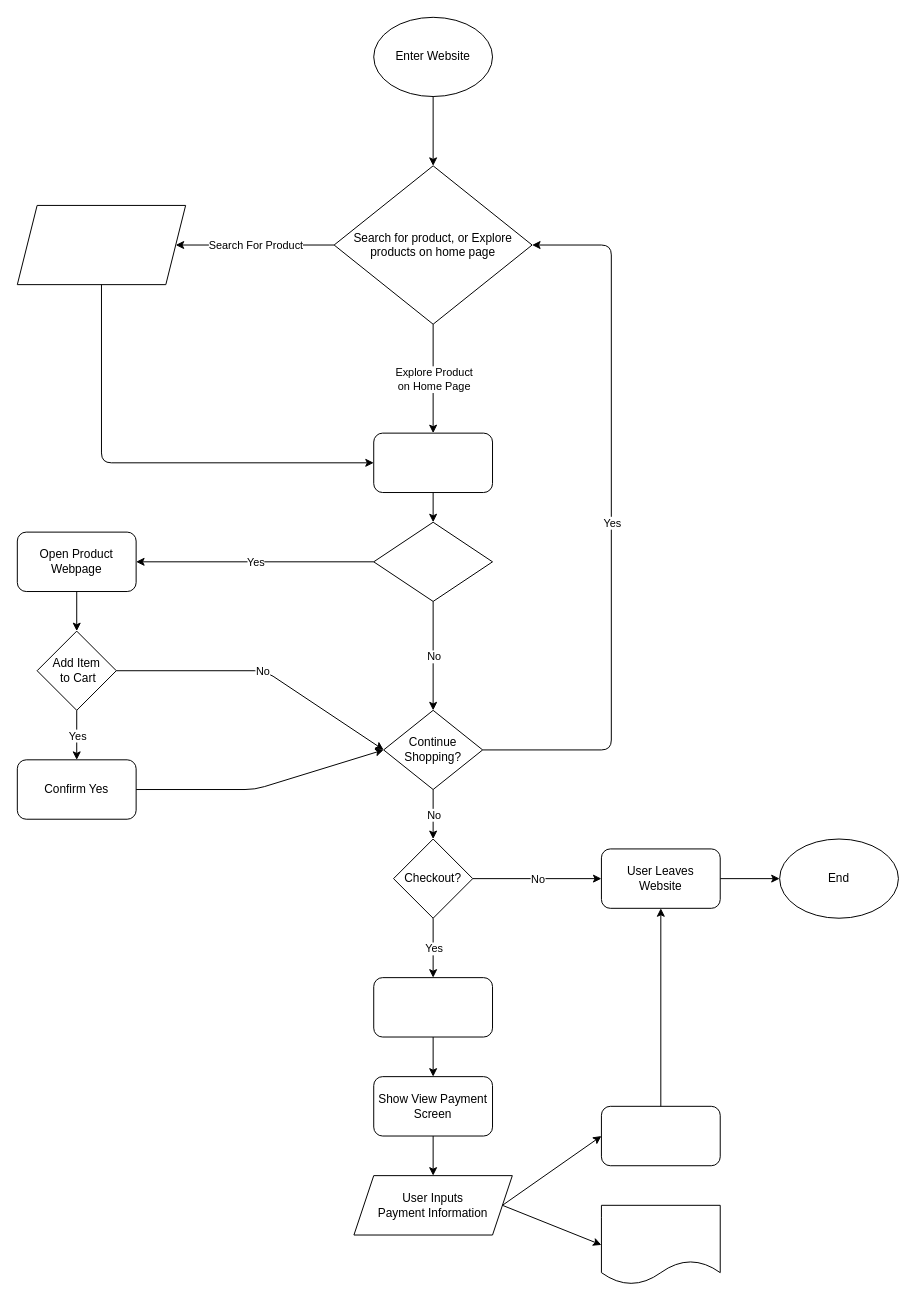
This 916x1302 diagram has some shape labels left out. Here are the shapes that lost their labels. From the top down, the centre of each, then its label:
the point at 101,244: Provide Input to the Website of their Search
the point at 433,462: Look Over Products
the point at 433,561: View a specific product?
the point at 433,1007: Show View Cart Screen
the point at 660,1135: Order Confirmation
the point at 660,1244: Email Sent
